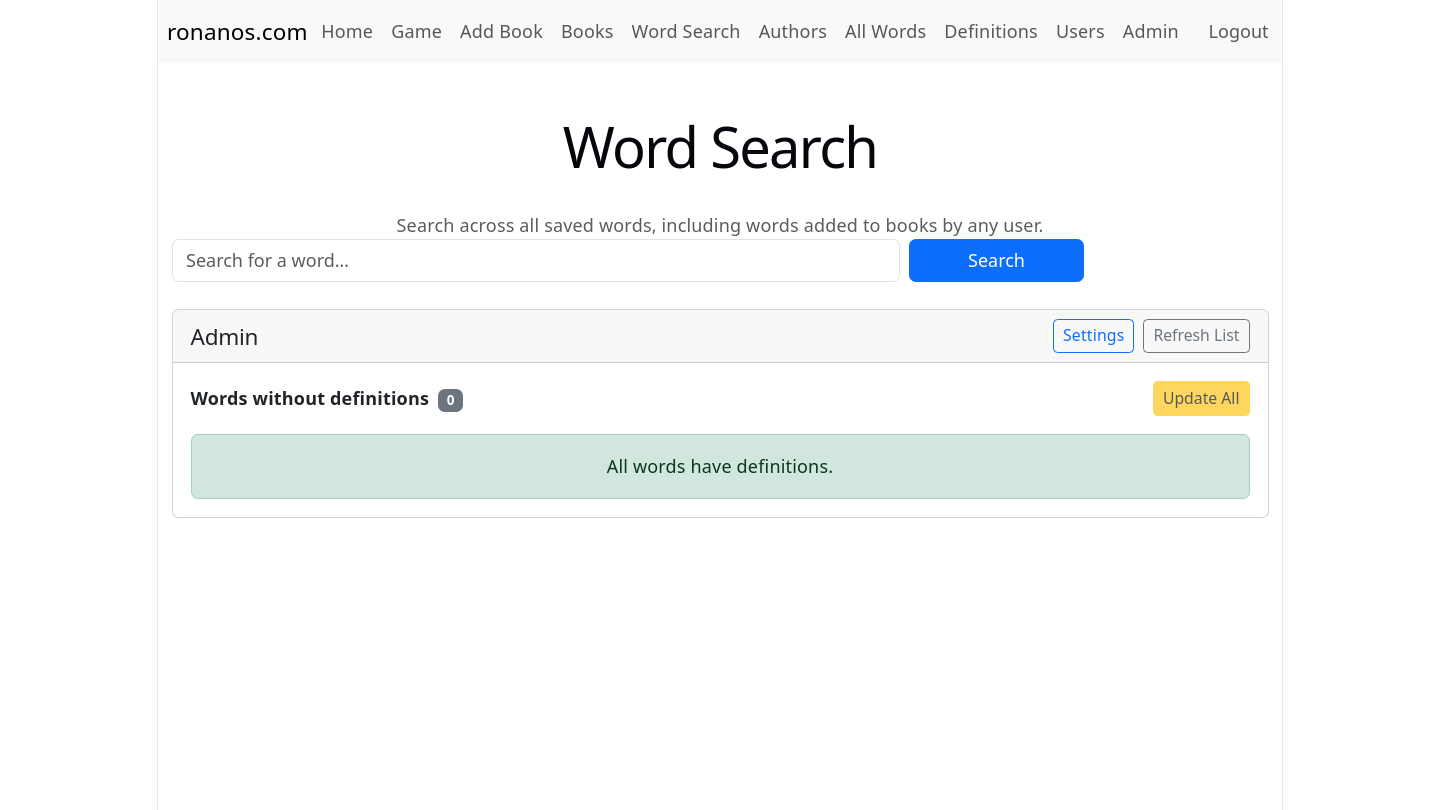
Scenario: WordSearch › shows saved words without book context
Type "stoic" into the field with placeholder "Search for a word…" at (536, 260), box [172,239,900,282]
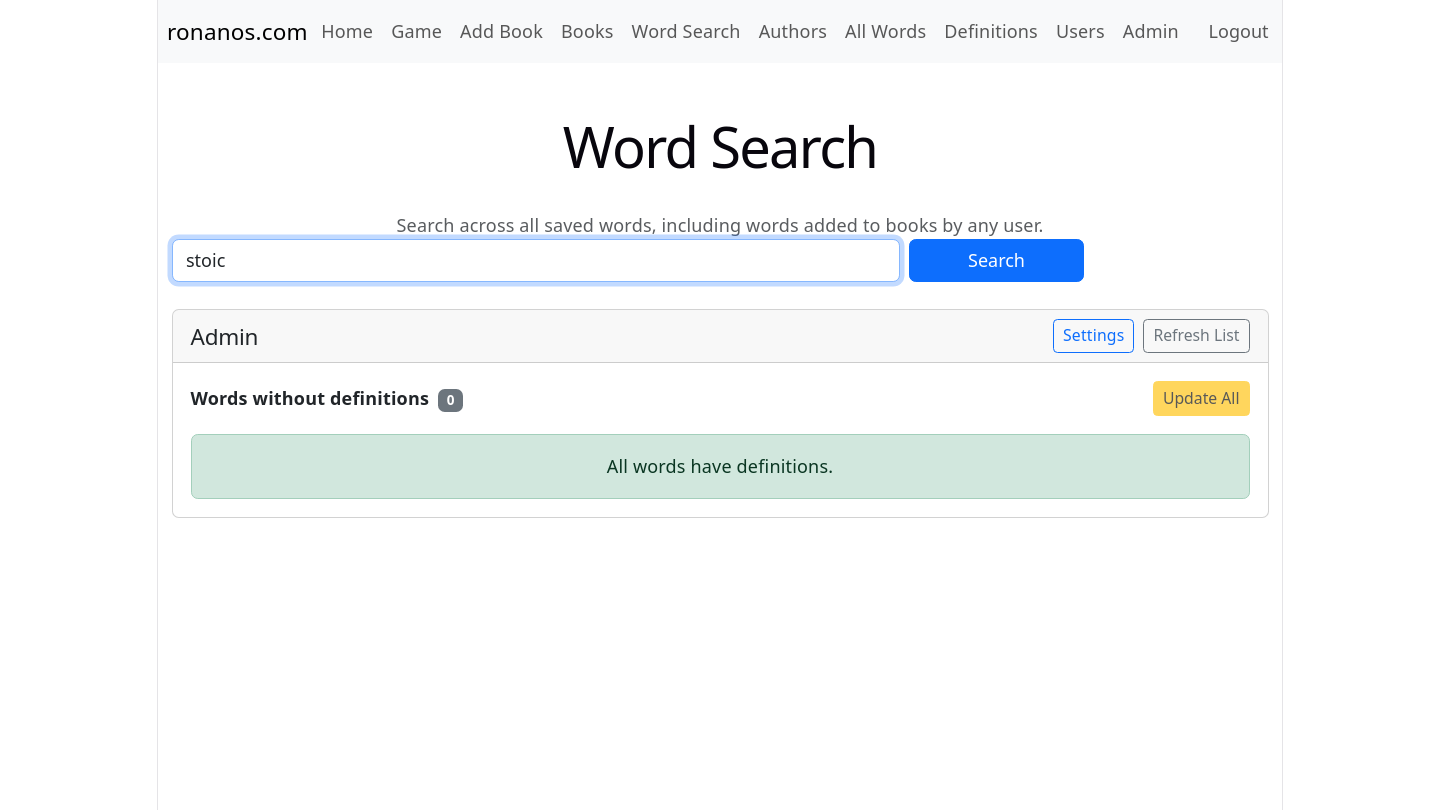
Click the button "Search" at (996, 260), box [909,239,1084,282]
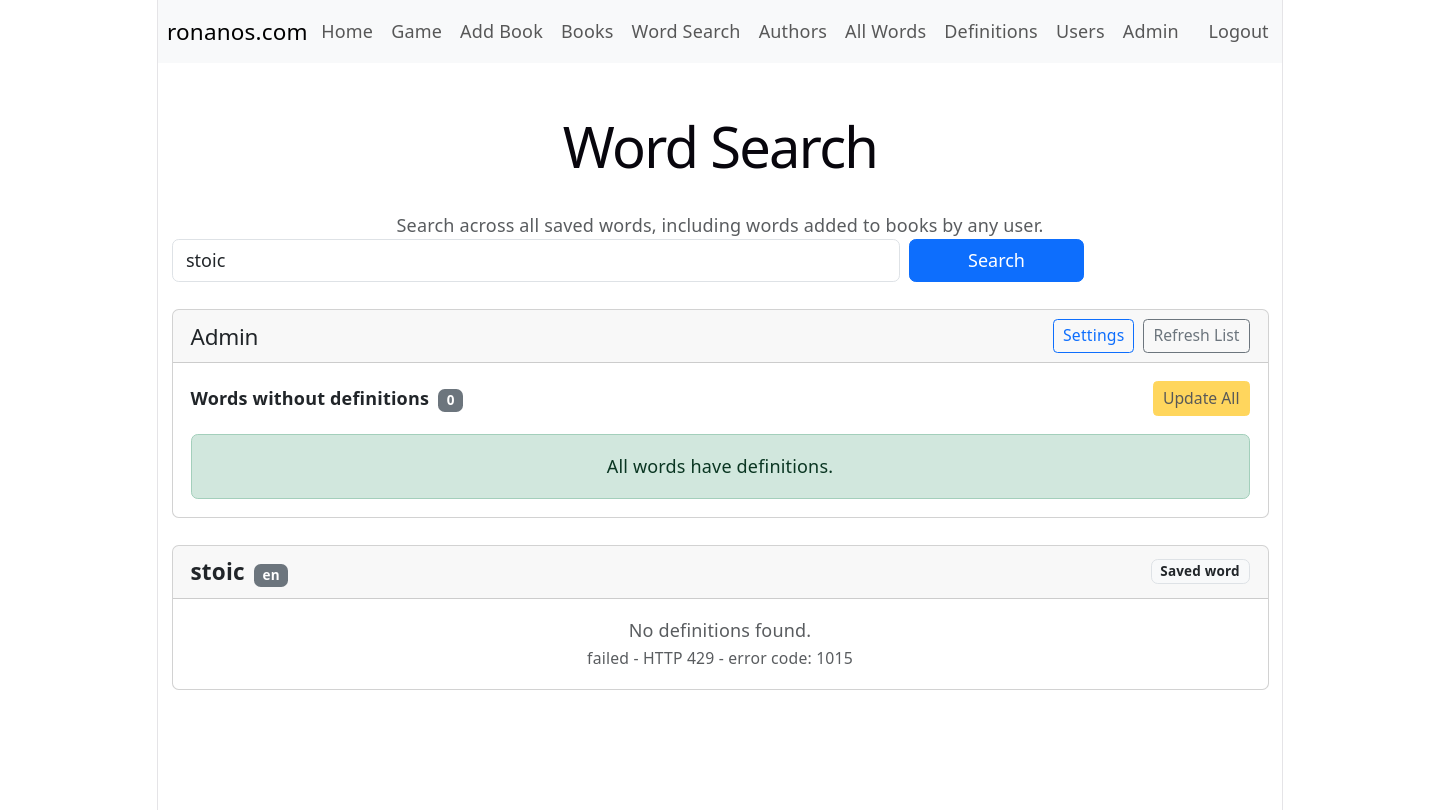
Expected: the text "stoic" is shown, [190,556,245,587]
Expected: the text "Saved word" is shown, [1150,559,1250,584]
